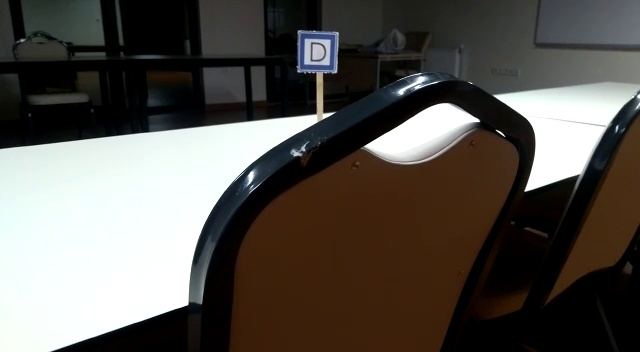durak: (298, 30, 338, 71)
